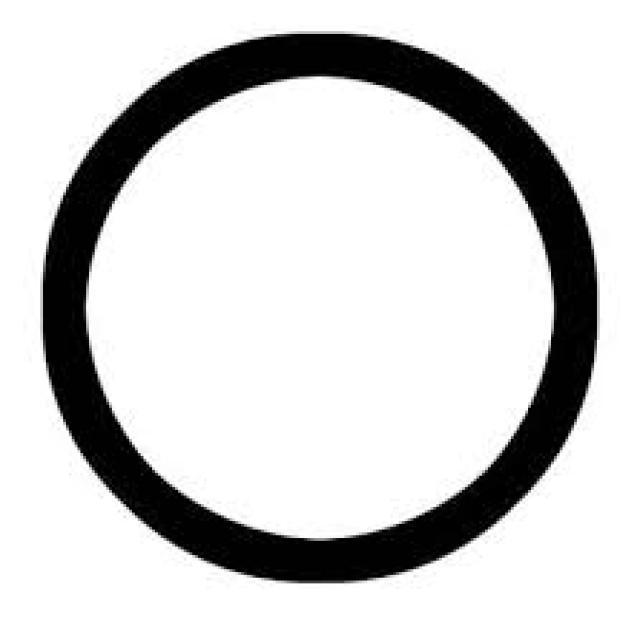Circle: (40, 29, 600, 583)
